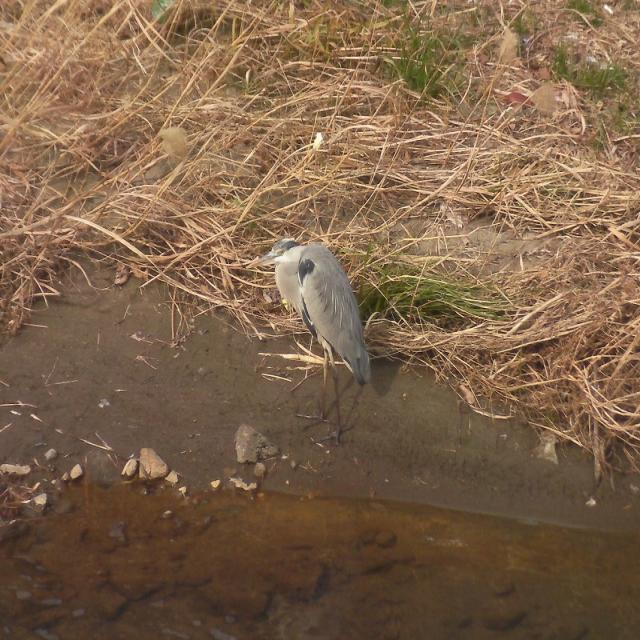bird: (258, 239, 374, 392)
